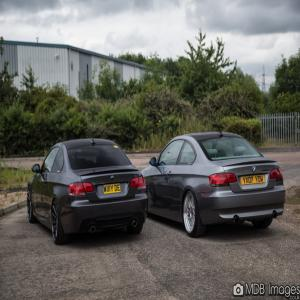Vehicle-registration-plate: (241, 175, 266, 186), (104, 183, 122, 194)
